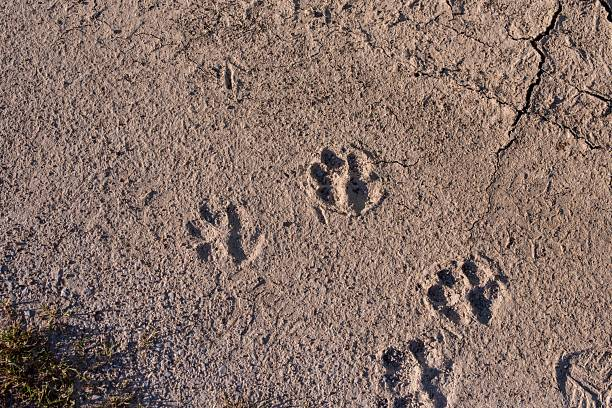animal_footprint: (376, 335, 457, 407), (426, 256, 507, 324), (310, 147, 384, 215), (186, 201, 264, 264), (556, 349, 611, 407)
